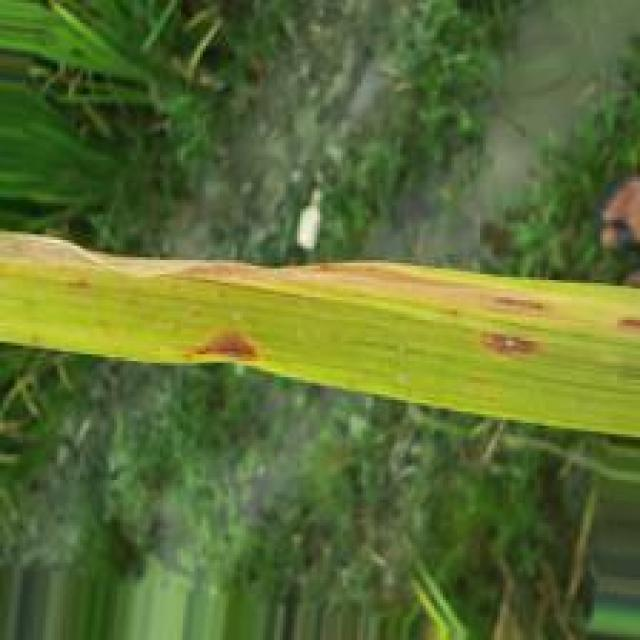Brown_Spot: (179, 319, 271, 364), (476, 325, 553, 362), (471, 294, 554, 314)
